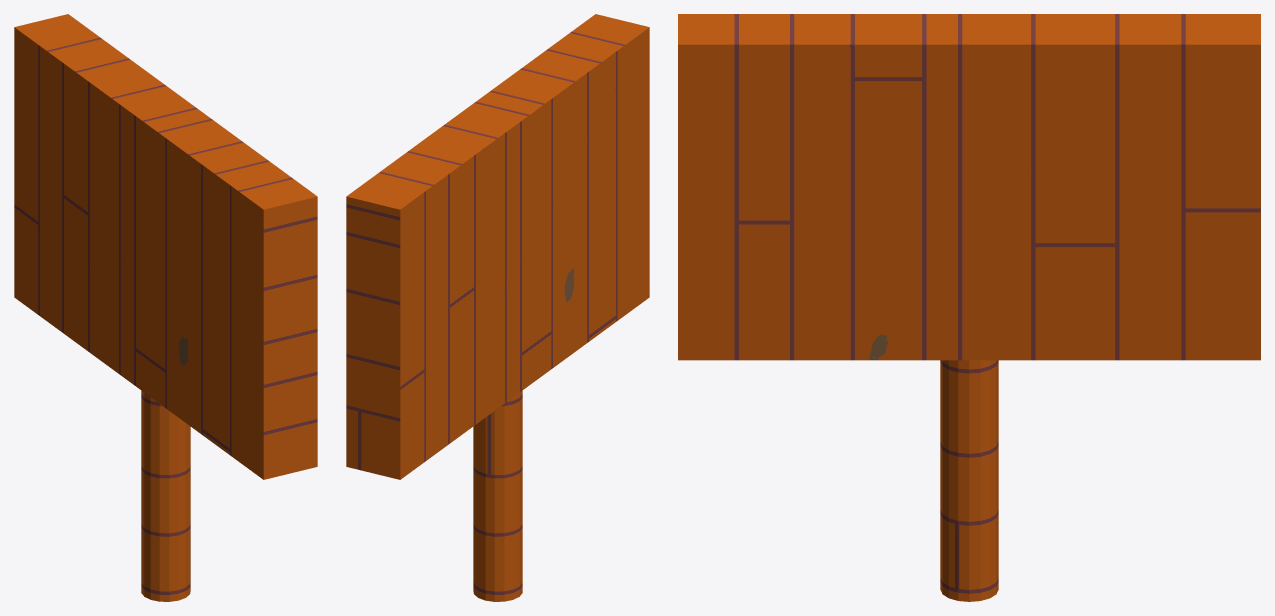
File: tabliczka.fbx
The picture shows the model from 3 angles, left to right: view 1: azimuth 30°, elevation 25°; view 2: azimuth 150°, elevation 25°; view 3: azimuth 270°, elevation 25°; orthographic projection. The views are drawn at different scales.
Parts seen in each view (by area): view 1: Cylinder; view 2: Cylinder; view 3: Cylinder.
Boxes of the visible parts, <box> form: Cylinder: <box>14,14,317,601</box>; Cylinder: <box>346,14,649,601</box>; Cylinder: <box>678,14,1260,601</box>.
Bounding box in the file's own units: 5 × 42.44 × 40.
